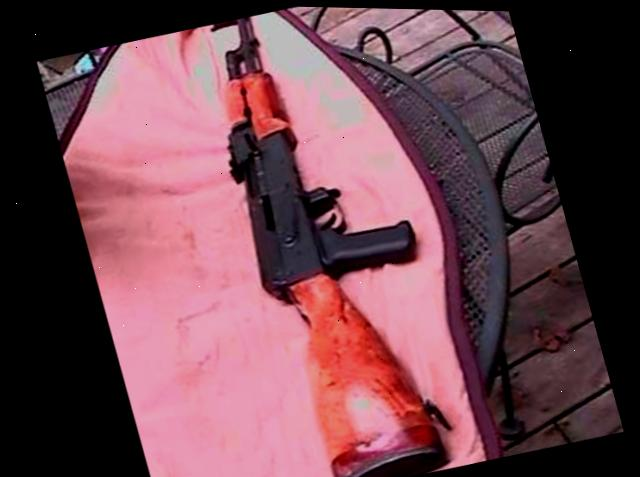rifle: (173, 3, 485, 477)
